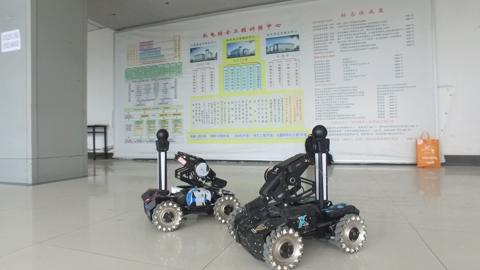chariot: (229, 117, 377, 265), (130, 125, 243, 238)
